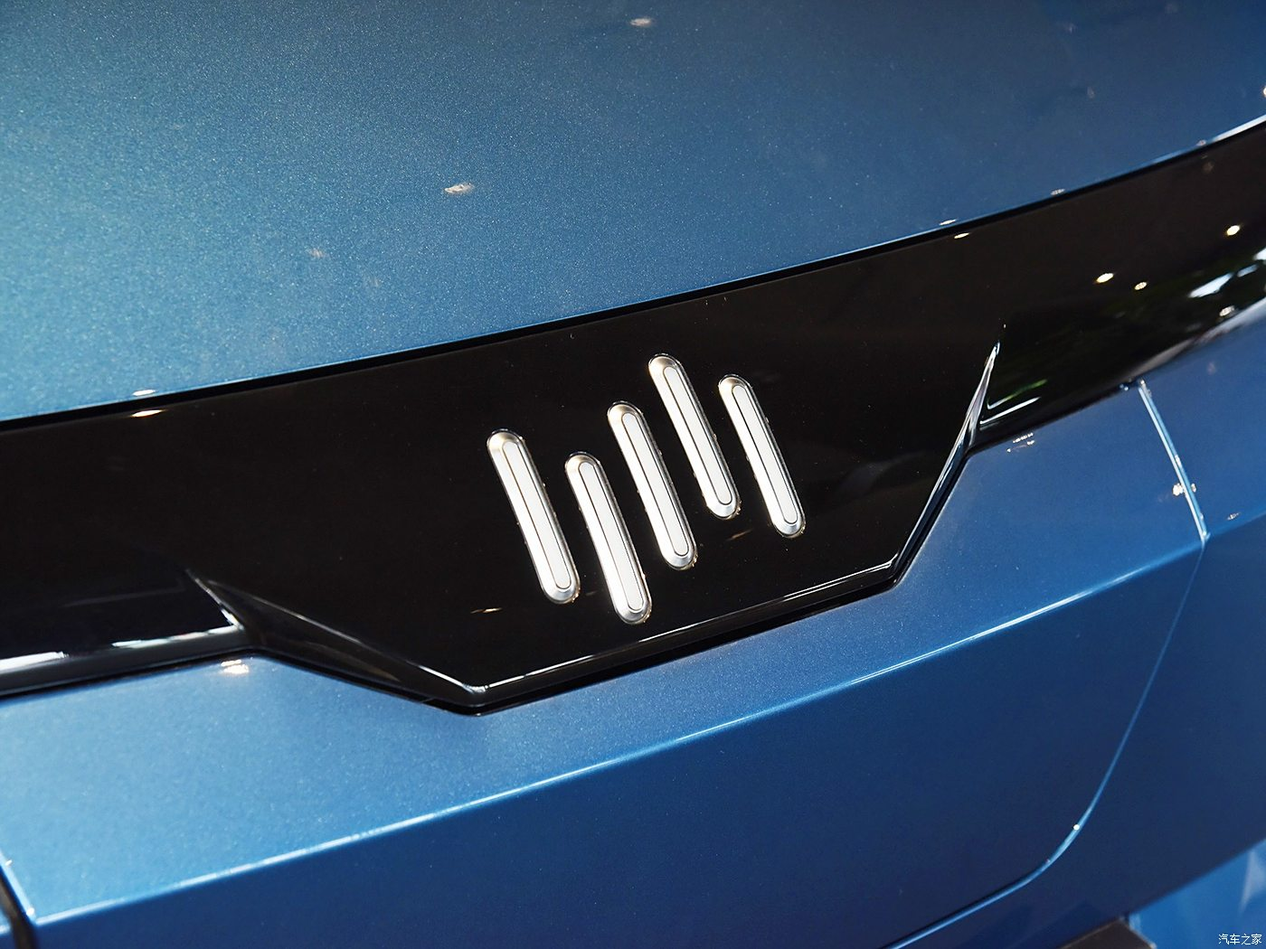WELTMEISTER: (487, 356, 804, 624)
